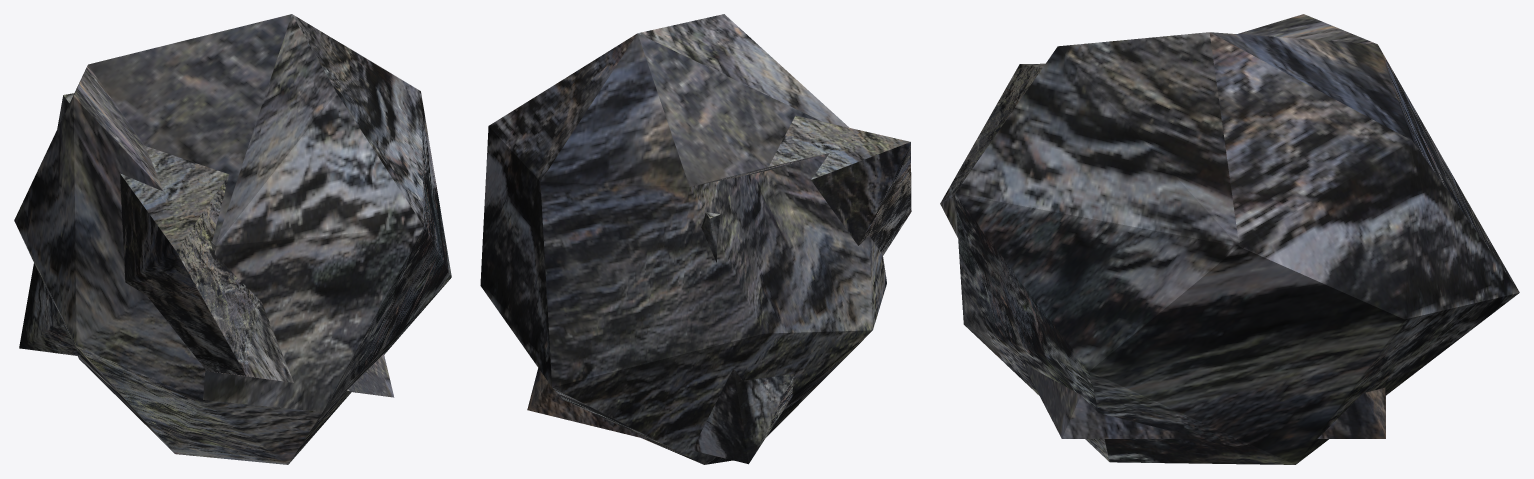
File: Rock5.glb
3 renders of one model, left to right at view 1: azimuth 30°, elevation 25°; view 2: azimuth 150°, elevation 25°; view 3: azimuth 270°, elevation 25°, orthographic. The views are drawn at different scales.
Parts seen in each view (by area): view 1: Cube; view 2: Cube; view 3: Cube.
Part boxes in pixels (x1,y1,x2,y2): Cube: [14, 14, 451, 464]; Cube: [480, 14, 911, 464]; Cube: [940, 14, 1519, 464].
Size of the model in its own units: 3.67 by 3.9 by 4.41.
1 material, 1 textured.
